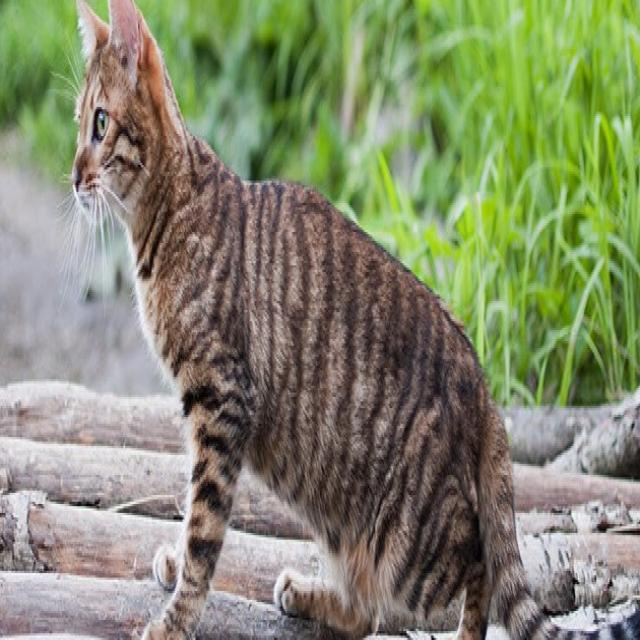Toyger: (70, 0, 640, 640)
